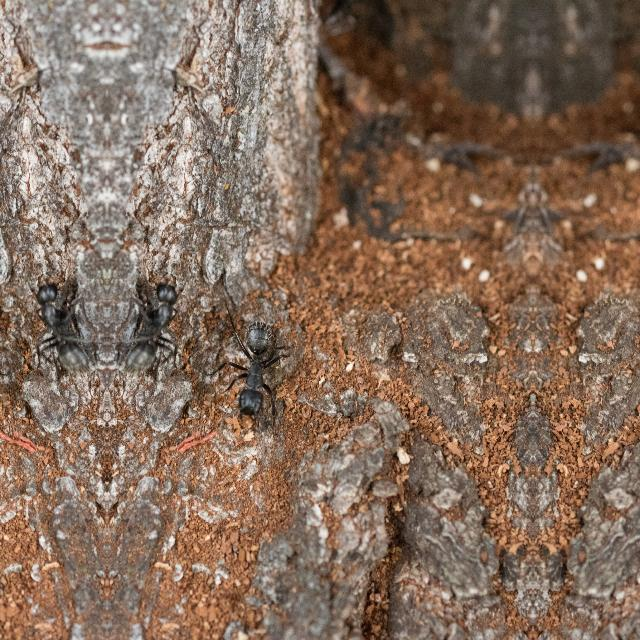Camponotus: (215, 296, 291, 438), (128, 260, 192, 392), (20, 260, 84, 392)
